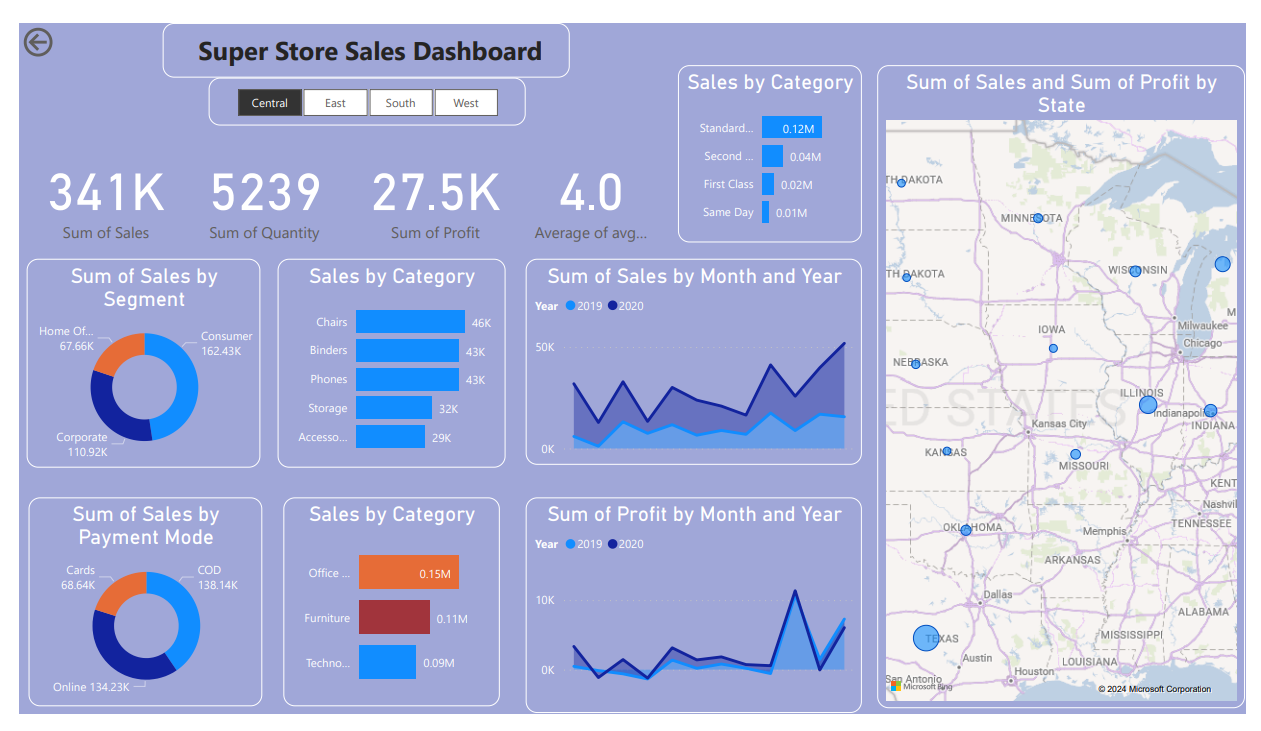

Layout of this report page (visuals, bound fields, positions):
{"tool":"powerbi","page":{"name":"Page 1","canvas":[1280,720],"ordinal":0},"visuals":[{"type":"barChart","title":"Sales by Category","fields":{"Category":["Sheet1.Category"],"Y":["Sum(Sheet1.Sales)"]},"box":[276.2,495.2,226.2,217.9],"z":0},{"type":"barChart","title":"Sales by Category","fields":{"Category":["Sheet1.Sub-Category"],"Y":["Sum(Sheet1.Sales)"]},"box":[270.2,246.4,238.1,217.9],"z":1000},{"type":"clusteredBarChart","title":"Sales by Category","fields":{"Category":["Sheet1.Ship Mode"],"Y":["Sum(Sheet1.Sales)"]},"box":[688.1,44,191.7,184.5],"z":2000},{"type":"stackedAreaChart","fields":{"Y":["Sum(Sheet1.Sales)"],"Series":["Sheet1.Order Date.Variation.Date Hierarchy.Year"],"Category":["Sheet1.Order Date.Variation.Date Hierarchy.Month","Sheet1.Order Date.Variation.Date Hierarchy.Day"]},"box":[528.6,246.4,351.2,214.3],"z":3000},{"type":"map","fields":{"Category":["Sheet1.State"],"Size":["Sum(Sheet1.Sales)"]},"box":[896.4,44,383.3,671.4],"z":4000},{"type":"donutChart","fields":{"Category":["Sheet1.Segment"],"Y":["Sum(Sheet1.Sales)"]},"box":[8.3,246.4,244,217.9],"z":5000},{"type":"stackedAreaChart","fields":{"Series":["Sheet1.Order Date.Variation.Date Hierarchy.Year"],"Category":["Sheet1.Order Date.Variation.Date Hierarchy.Month","Sheet1.Order Date.Variation.Date Hierarchy.Day"],"Y":["Sum(Sheet1.Profit)"]},"box":[528.6,495.2,351.2,225],"z":6000},{"type":"donutChart","fields":{"Y":["Sum(Sheet1.Sales)"],"Category":["Sheet1.Payment Mode"]},"box":[9.5,495.2,244,217.9],"z":7000},{"type":"slicer","fields":{"Values":["Sheet1.Region"]},"box":[197.6,57.1,331,50],"z":8000},{"type":"textbox","box":[150,0,425,57.1],"z":9000},{"type":"card","fields":{"Values":["Sum(Sheet1.Sales)"]},"box":[8.3,122.6,165.5,114.3],"z":10000},{"type":"card","fields":{"Values":["Sum(Sheet1.Quantity)"]},"box":[173.8,122.6,165.5,114.3],"z":11000},{"type":"card","fields":{"Values":["Sum(Sheet1.Profit)"]},"box":[339.3,122.6,191.7,114.3],"z":12000},{"type":"card","fields":{"Values":["Avg(Sheet1.avg_delivery)"]},"box":[531,122.6,133.3,114.3],"z":13000},{"type":"actionButton","box":[0,0,100,40],"z":14000}]}

Visuals, with their boxes in screenshot pixels (x1, y1, x2, y2), scaled from the page's 1280x720 canvas onto the 1261x731 screenshot:
"Sales by Category" barChart: x1=272 y1=503 x2=495 y2=724
"Sales by Category" barChart: x1=266 y1=250 x2=501 y2=471
"Sales by Category" clusteredBarChart: x1=678 y1=45 x2=867 y2=232
stackedAreaChart - Sum(Sheet1.Sales) x Sheet1.Order Date.Variation.Date Hierarchy.Year: x1=521 y1=250 x2=867 y2=468
map - Sheet1.State x Sum(Sheet1.Sales): x1=883 y1=45 x2=1260 y2=726
donutChart - Sheet1.Segment x Sum(Sheet1.Sales): x1=8 y1=250 x2=249 y2=471
stackedAreaChart - Sheet1.Order Date.Variation.Date Hierarchy.Year x Sheet1.Order Date.Variation.Date Hierarchy.Month: x1=521 y1=503 x2=867 y2=730
donutChart - Sum(Sheet1.Sales) x Sheet1.Payment Mode: x1=9 y1=503 x2=250 y2=724
slicer - Sheet1.Region: x1=195 y1=58 x2=521 y2=109
textbox: x1=148 y1=0 x2=566 y2=58
card - Sum(Sheet1.Sales): x1=8 y1=124 x2=171 y2=241
card - Sum(Sheet1.Quantity): x1=171 y1=124 x2=334 y2=241
card - Sum(Sheet1.Profit): x1=334 y1=124 x2=523 y2=241
card - Avg(Sheet1.avg_delivery): x1=523 y1=124 x2=654 y2=241
actionButton: x1=0 y1=0 x2=99 y2=41
